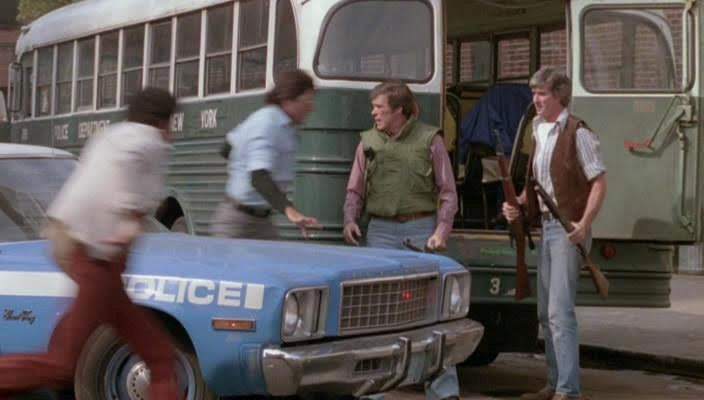gun: (526, 168, 621, 301), (492, 151, 532, 298)
